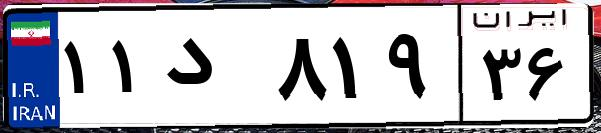1: (330, 28, 385, 110), (57, 26, 110, 100), (110, 28, 158, 98)
3: (475, 38, 525, 113)
6: (525, 38, 570, 115)
8: (270, 28, 330, 110)
9: (385, 28, 445, 110)
د: (158, 20, 270, 120)
